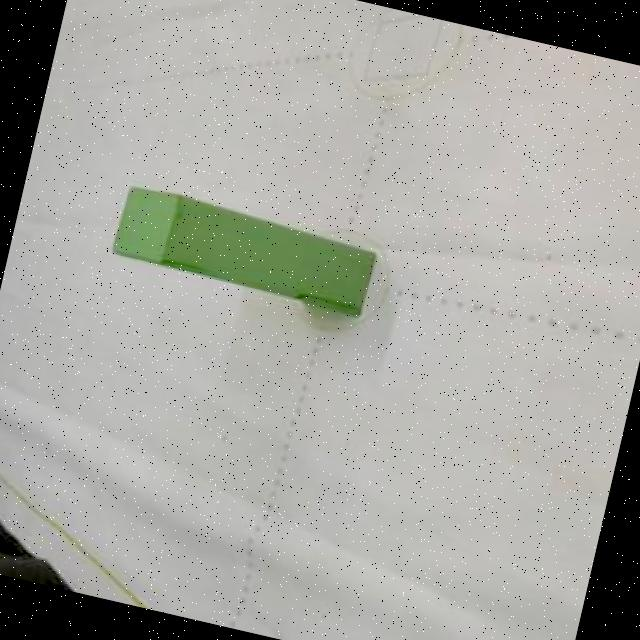greenbox: (107, 184, 377, 316)
